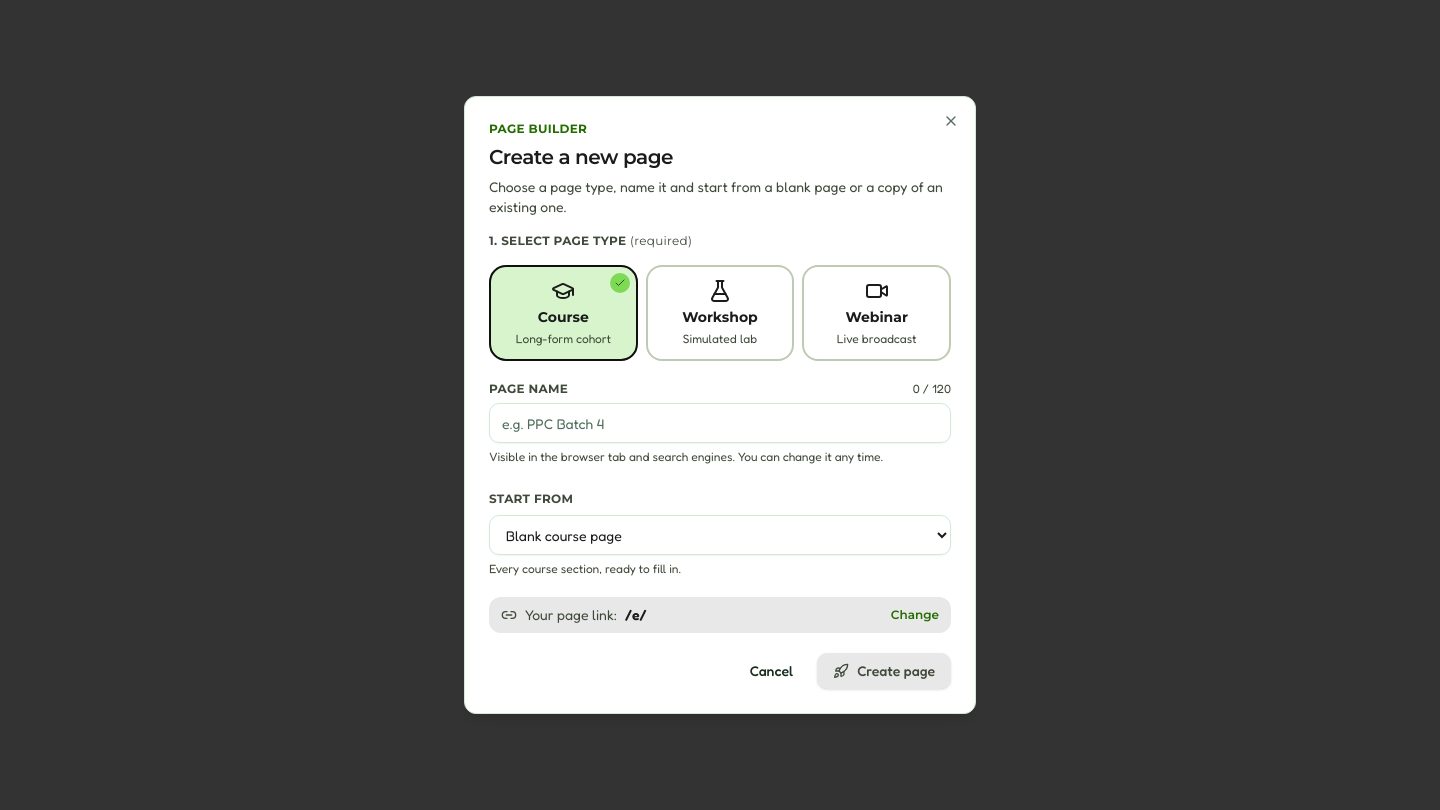
Test: NewPageDialog › blocks submit with no usable link (non-Latin name) and says why
The image size is (1440, 810).
In the field labelled "Page name": coordinates (720, 423) [489,403,951,443], type "دورة"
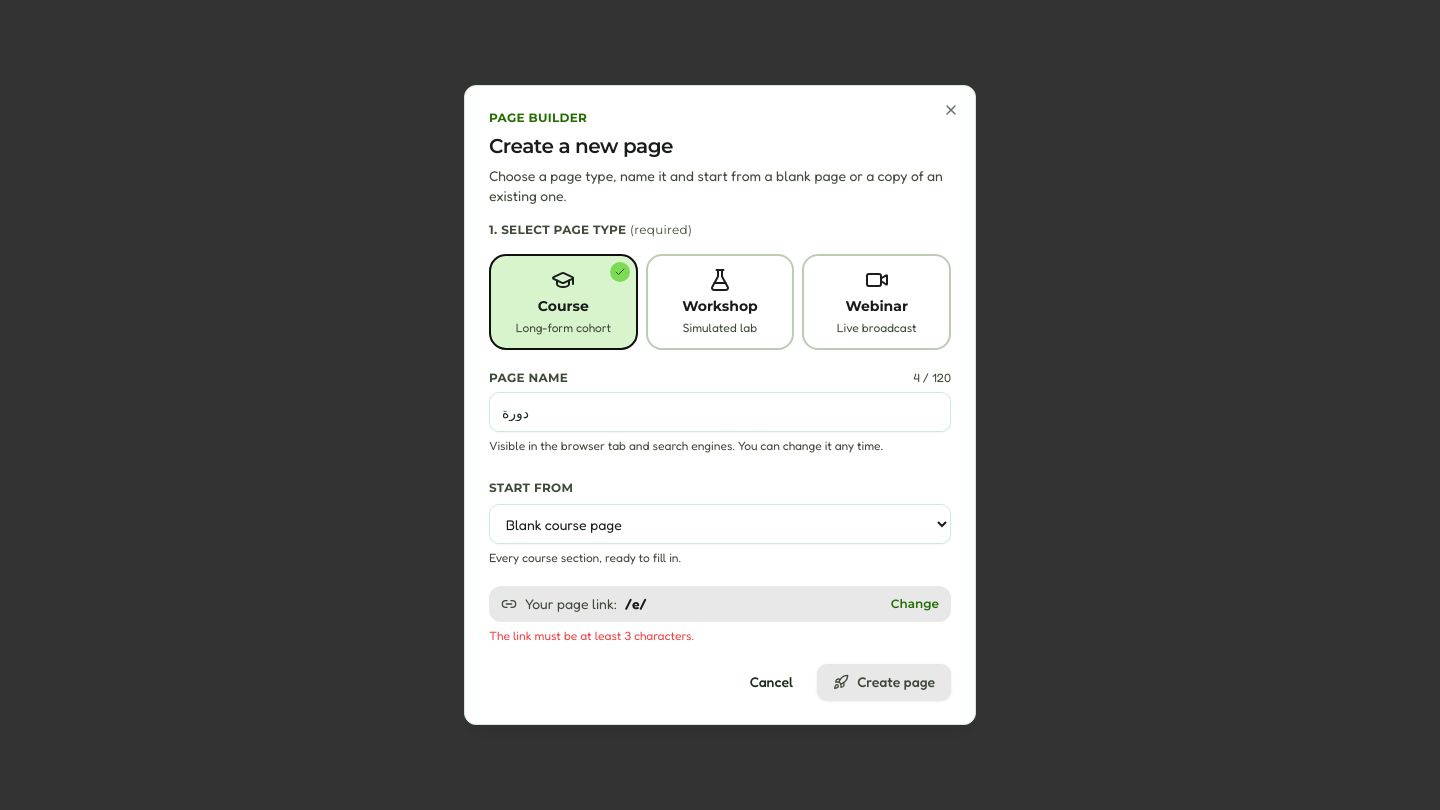
Check: the button "Create page" is disabled, box [817,664,951,700]
Check: the message reads "The link must be at least 3 characters.", box [489,628,694,643]
